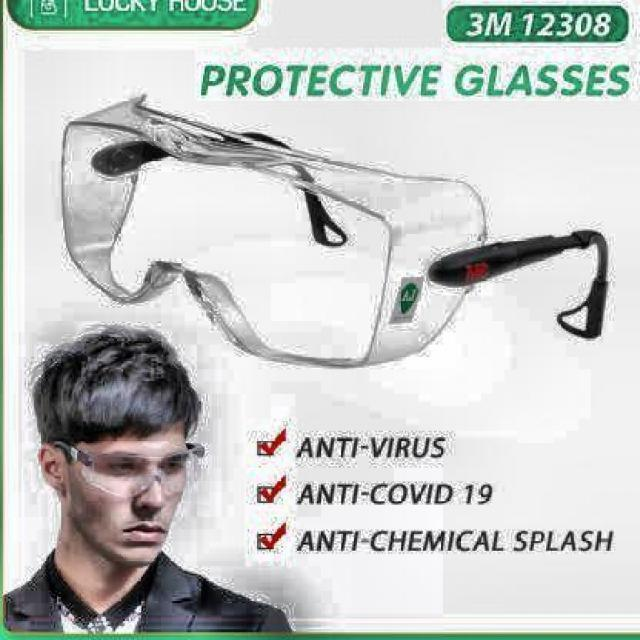Goggles: (54, 87, 622, 356)
